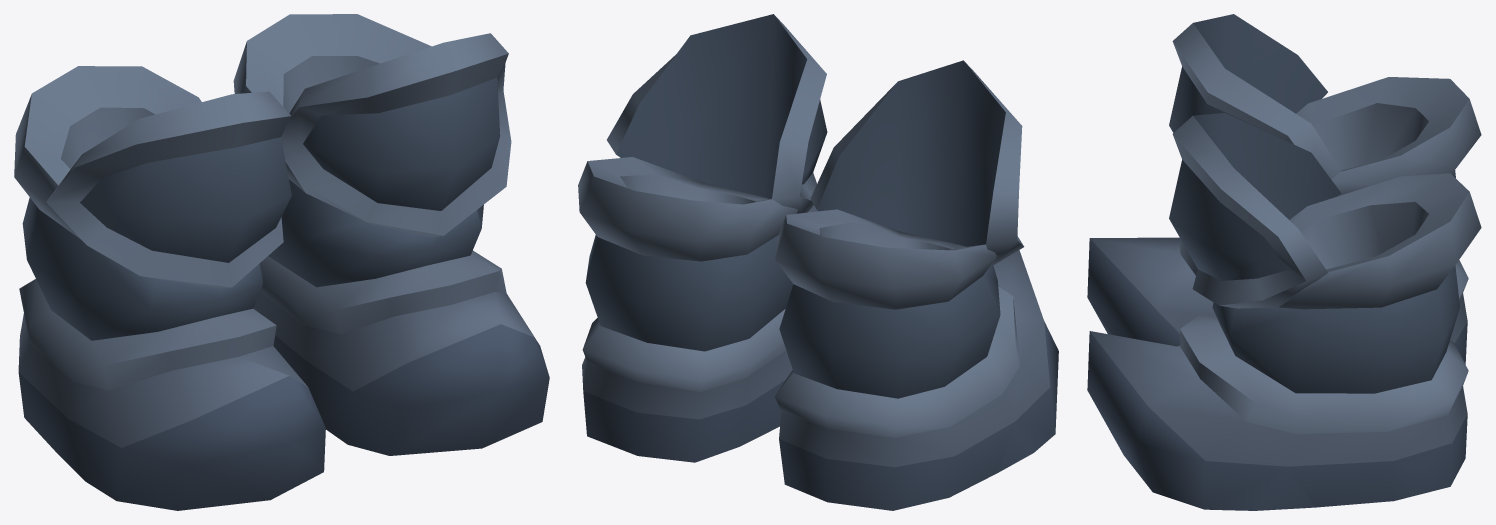
File: Shoes_12.fbx
3 renders of one model, left to right at view 1: azimuth 30°, elevation 25°; view 2: azimuth 150°, elevation 25°; view 3: azimuth 270°, elevation 25°, orthographic. The views are drawn at different scales.
Visible parts, largest first — view 1: Shoes_12; view 2: Shoes_12; view 3: Shoes_12.
Boxes of the visible parts, left/top/right/bottom form: Shoes_12: left=14, top=14, right=549, bottom=510; Shoes_12: left=578, top=14, right=1058, bottom=510; Shoes_12: left=1087, top=14, right=1481, bottom=510.
Size of the model in its own units: 44.5 by 35.79 by 36.93.
